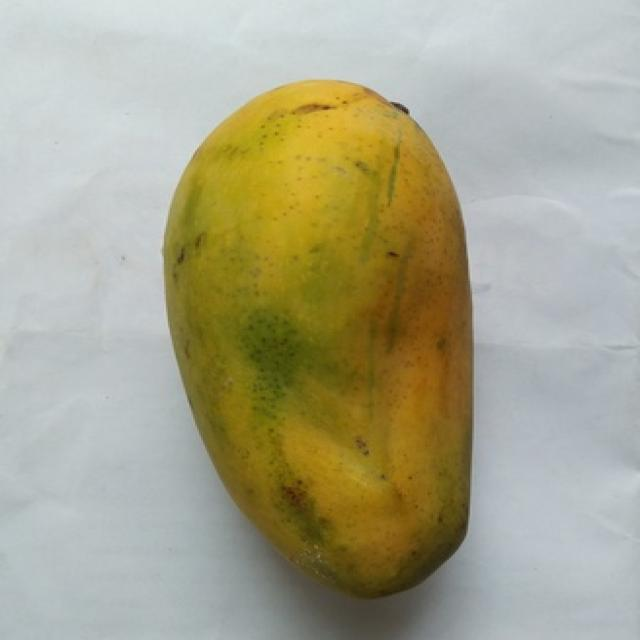Mango: (164, 80, 470, 595)
